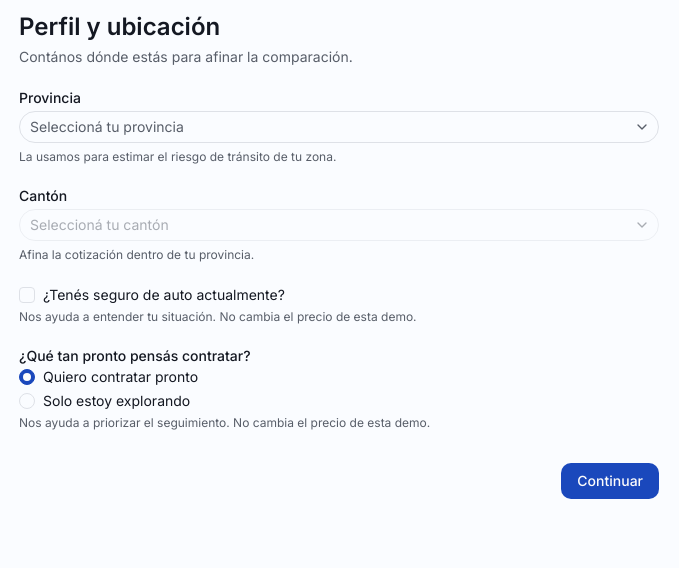
it: ProfileForm › shows validation errors when submitted empty
The image size is (679, 568).
What coordinates should you click on to do the following:
click the button "Continuar"
I would click on:
 (610, 481)
Its box is [561, 463, 659, 499].
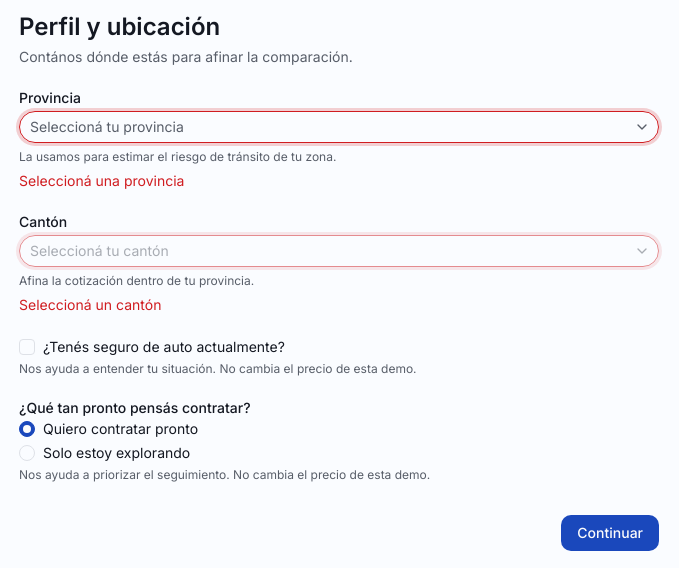
expect the text "Seleccioná una provincia" is shown: met, box [19, 172, 184, 189]
expect the text "Seleccioná un cantón" is shown: met, box [19, 296, 161, 313]
